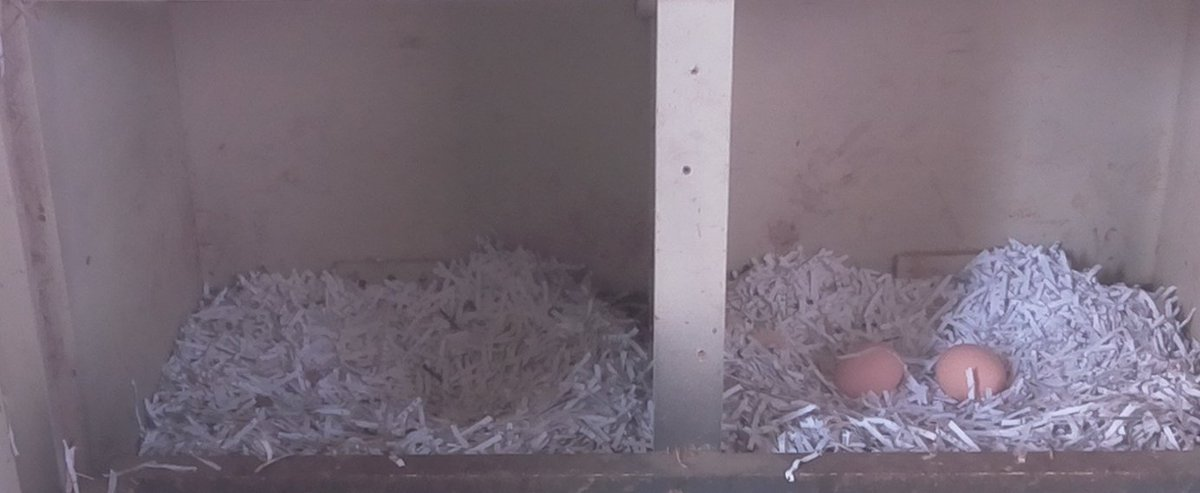egg: (930, 341, 1011, 407), (831, 342, 905, 400)
